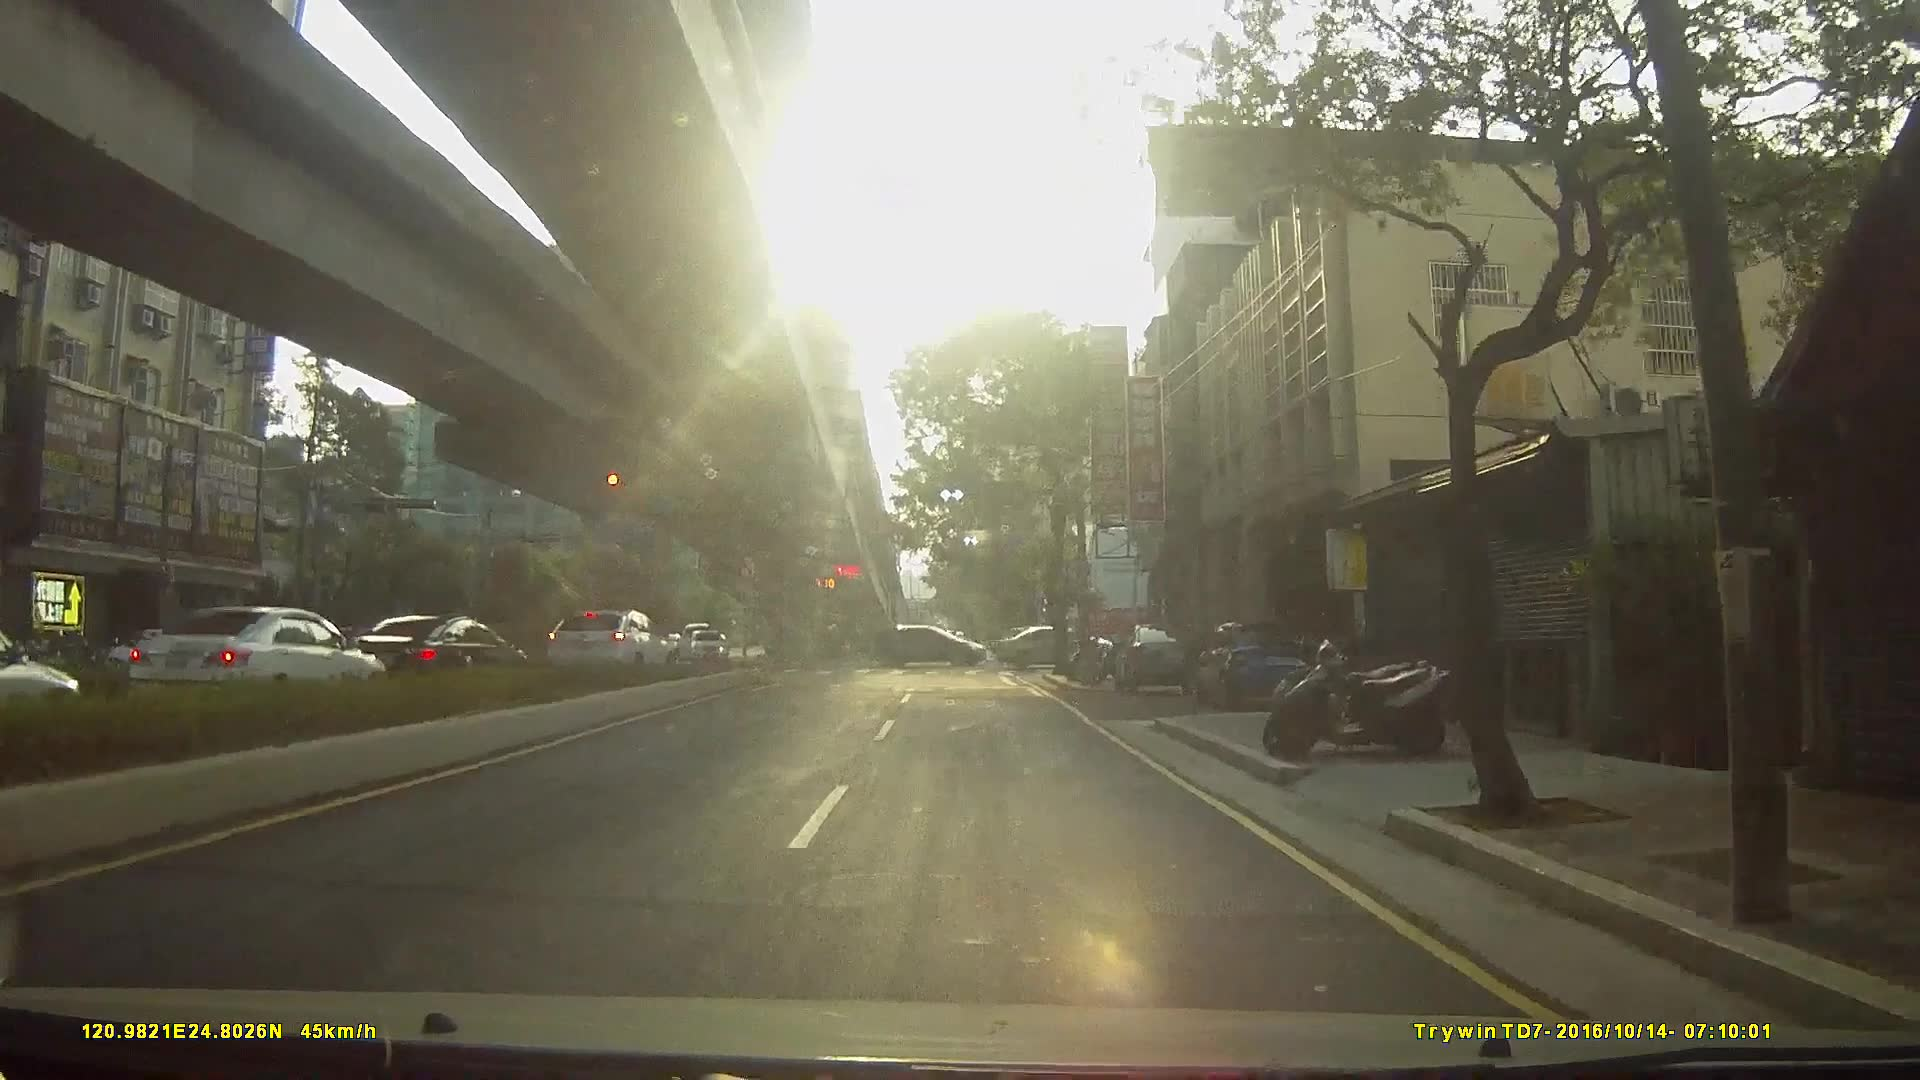vehicle: (105, 603, 377, 711), (342, 611, 525, 688), (1196, 618, 1317, 713), (1, 622, 88, 736), (539, 607, 673, 675), (1112, 618, 1207, 692), (1004, 622, 1120, 670), (877, 622, 992, 669), (686, 626, 729, 665)
